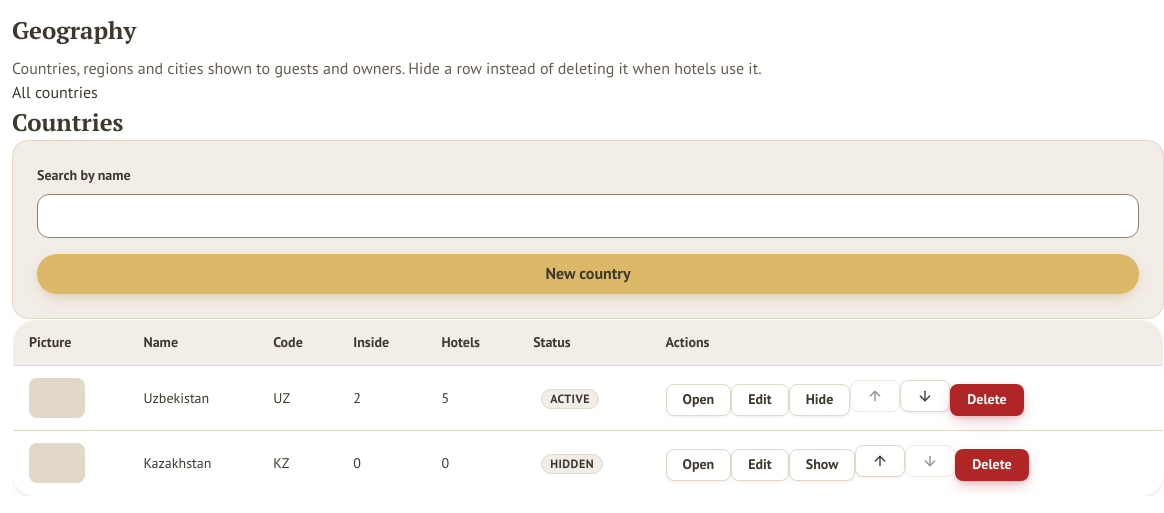
Test: AdminGeography › opens a country to see its regions, then a region to see its cities, with a way back
The width and height of the screenshot is (1164, 513).
Click the button with aria-label "Open Uzbekistan". click: point(698, 400)
box: [666,384,731,416]
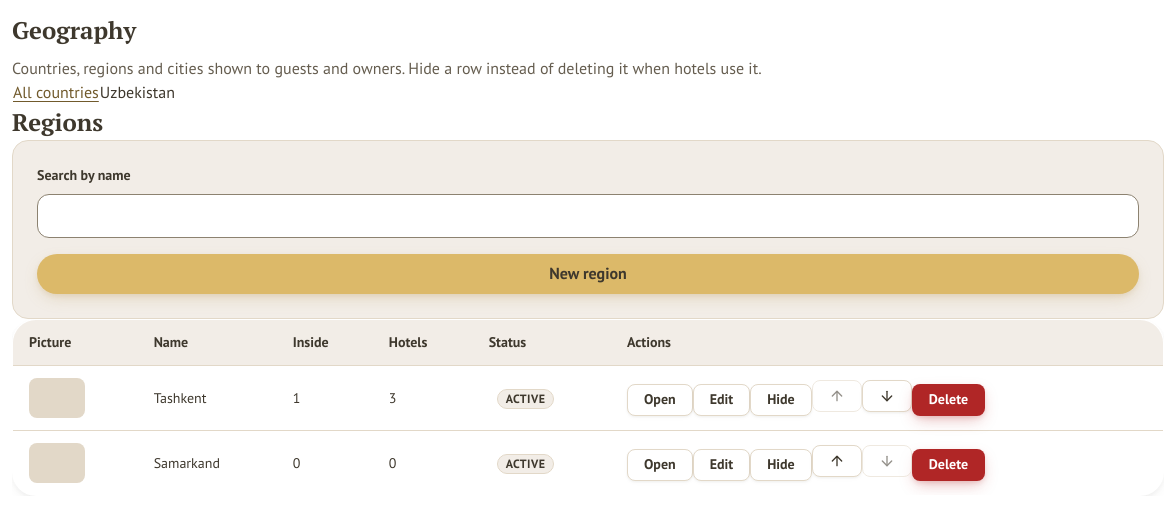
Check: the text "Tashkent" is shown, box [138,366,277,430]
Click the button with aria-label "Open Tashkent". click: point(660, 400)
box: [627,384,693,416]
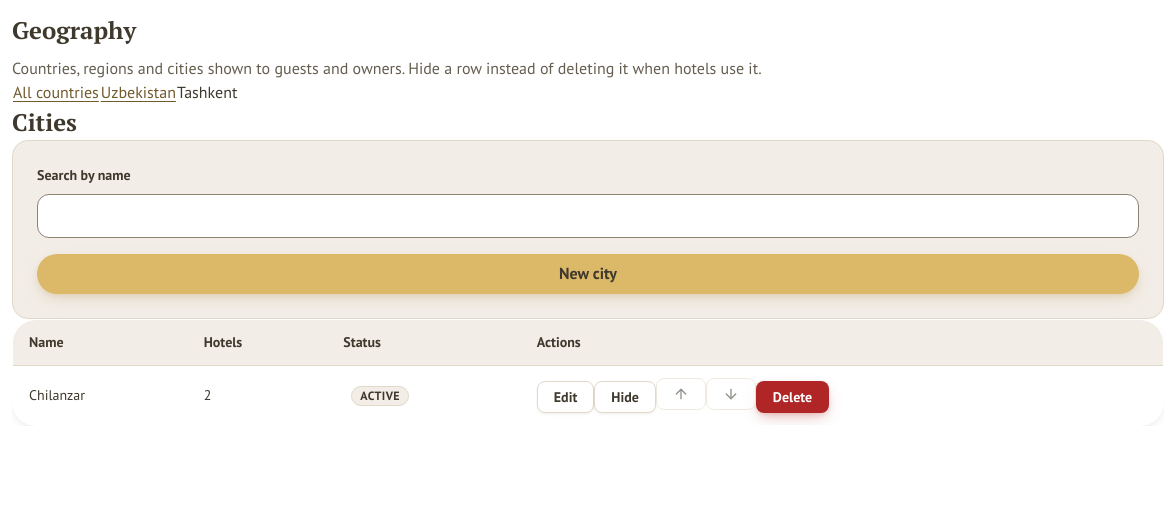
Check: the text "Chilanzar" is shown, box [12,366,188,426]
Click the button "Uzbekistan". click: point(138, 93)
box: [100,82,177,103]
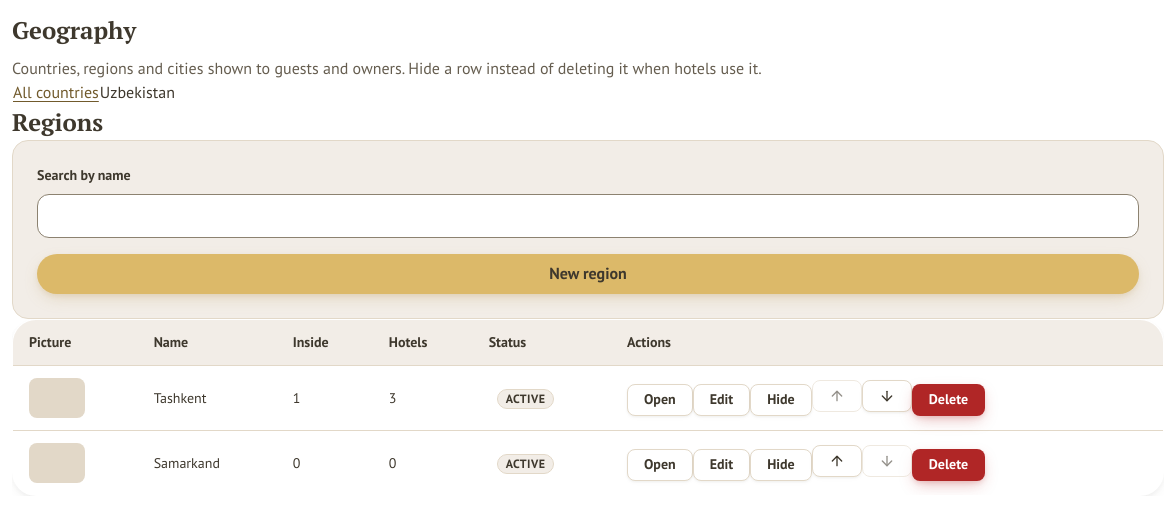
Check: the text "Samarkand" is shown, box [138,430,277,496]
Click the button "All countries". click: point(56, 93)
box: [12,82,100,103]
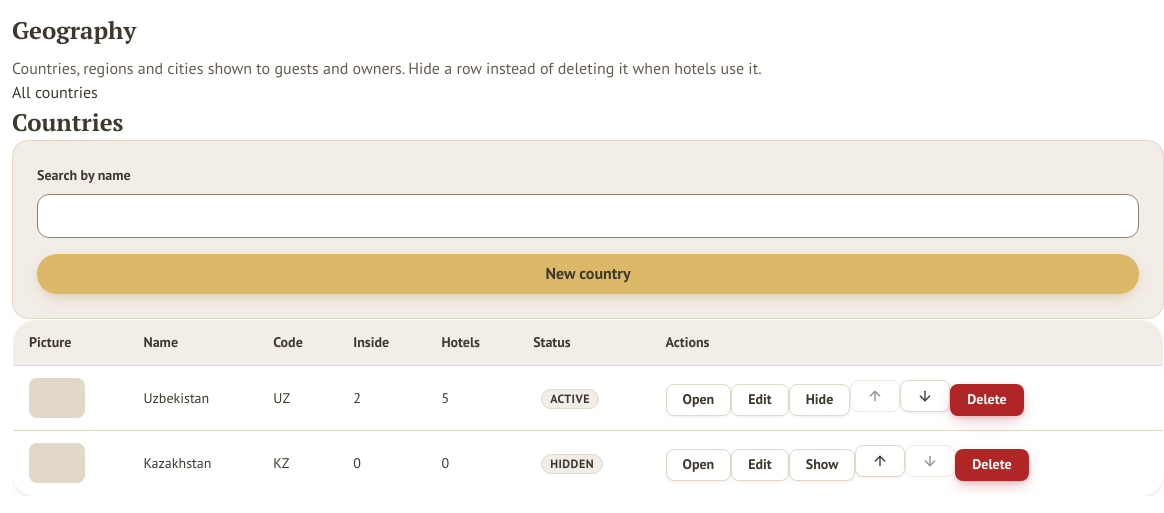
Check: the text "Kazakhstan" is shown, box [128,430,257,496]
